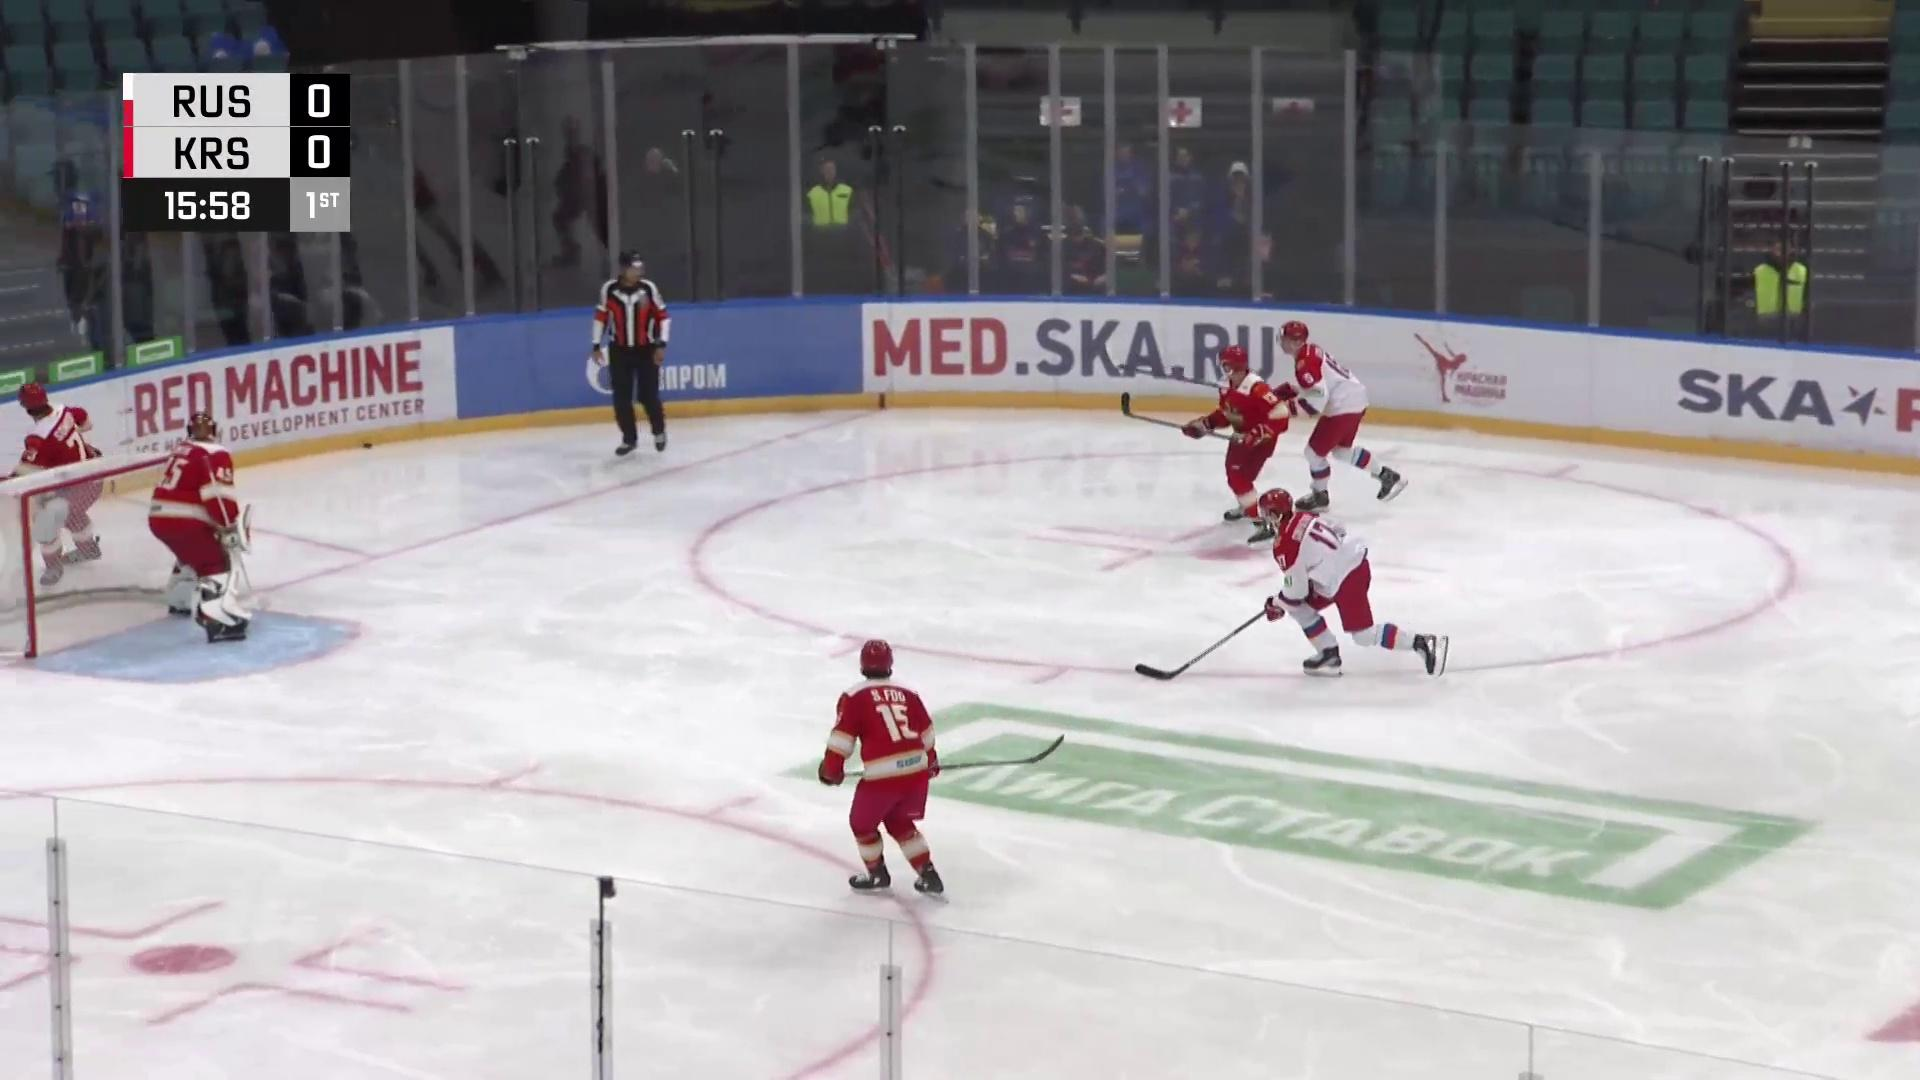ball: (361, 442, 375, 450)
